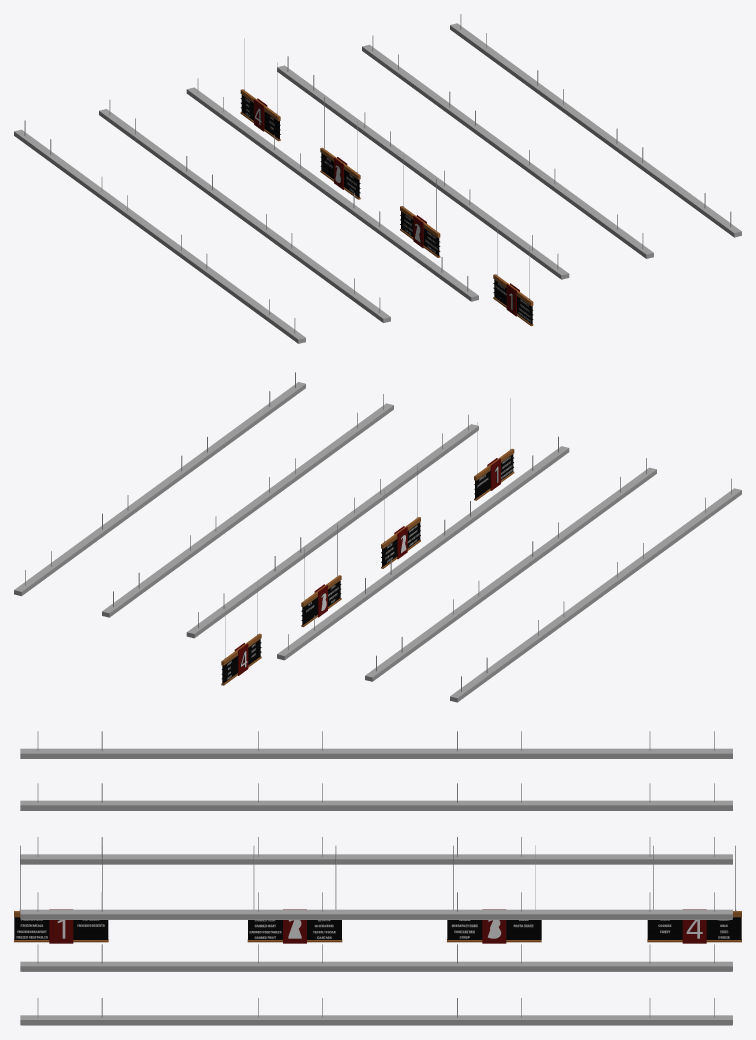
Rendered from Cieling_Objects.fbx.
3 views of the same model, one above another, from view 1: azimuth 30°, elevation 25°; view 2: azimuth 150°, elevation 25°; view 3: azimuth 270°, elevation 25° (orthographic). The views are drawn at different scales.
Parts seen in each view (by area): view 1: Hanging_Lights, Signs; view 2: Hanging_Lights, Signs; view 3: Hanging_Lights, Signs, Numbers.
Part boxes in pixels (<box>): Hanging_Lights: <box>14,14,741,343</box>; Signs: <box>240,38,533,326</box>; Hanging_Lights: <box>14,372,741,702</box>; Signs: <box>221,398,514,685</box>; Hanging_Lights: <box>20,731,732,1025</box>; Signs: <box>14,845,741,943</box>; Numbers: <box>57,920,702,938</box>.
Bounding box in the file's own units: 323 × 53.79 × 367.
